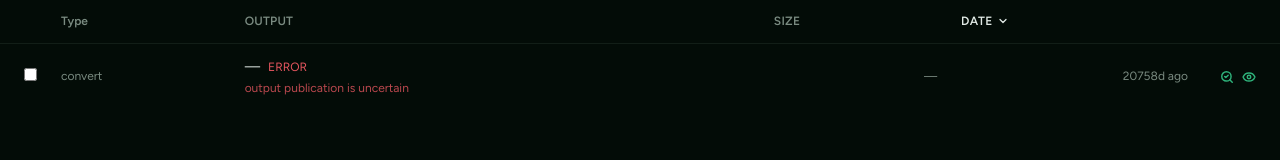
it: HistoryList verified publication review › keeps a stale assessment unresolved with its reason
Click the button named "review uncertain publication": coordinates (1227, 77) [1220, 70, 1234, 84]
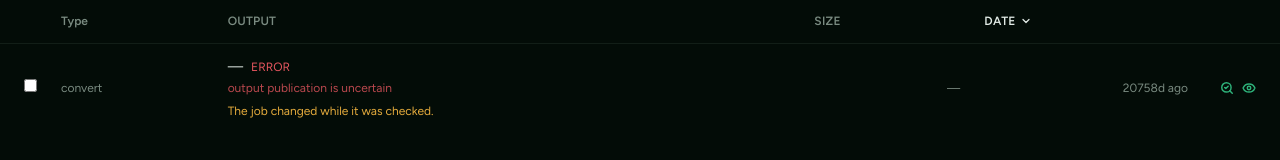
expect the message reads "The job changed while it was checked.": met, box [228, 104, 434, 118]
